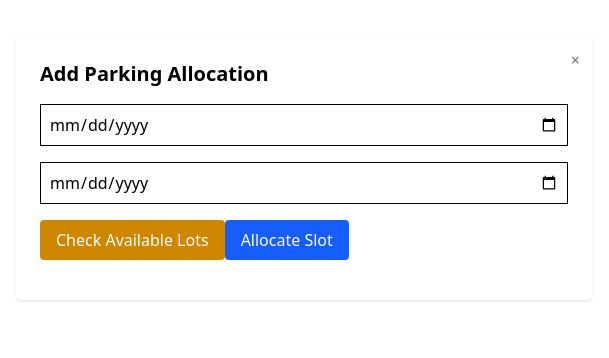
it: AddAllocation component › shows error if fetching available lots fails and displays alert
Type "2025-08-01" into the 1st date field named "fromDate".
click(304, 125); type("2025-08-01")  # box [40,104,568,146]
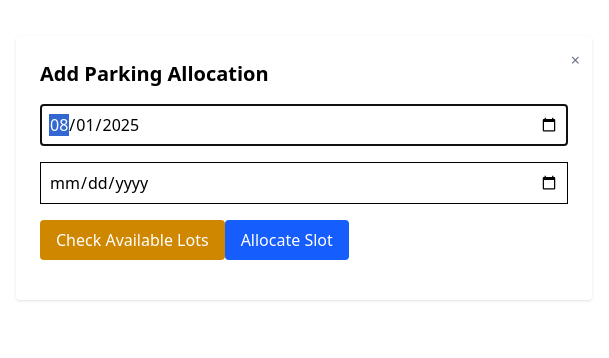
Type "2025-08-05" into the 2nd date field named "toDate".
click(304, 183); type("2025-08-05")  # box [40,162,568,204]
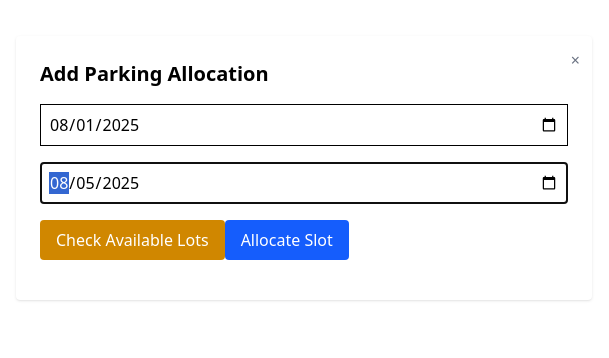
Click the button "Check Available Lots".
click(132, 240)  # box [40,220,225,260]
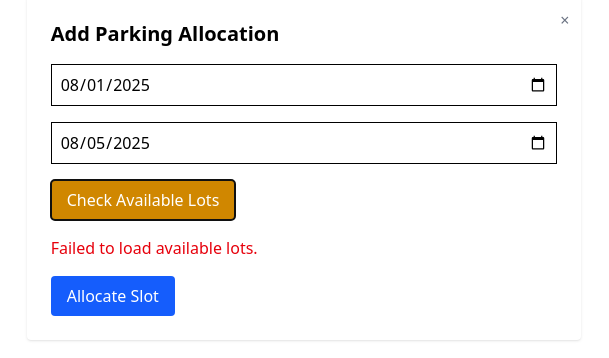
Check: the message shows "Failed to load available lots", box [51,237,258,259]
